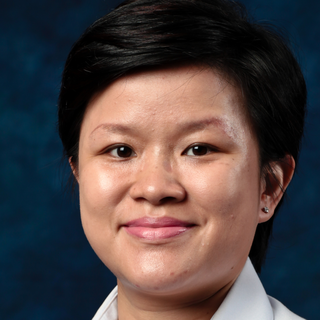eye: (177, 138, 226, 163), (97, 139, 140, 164)
